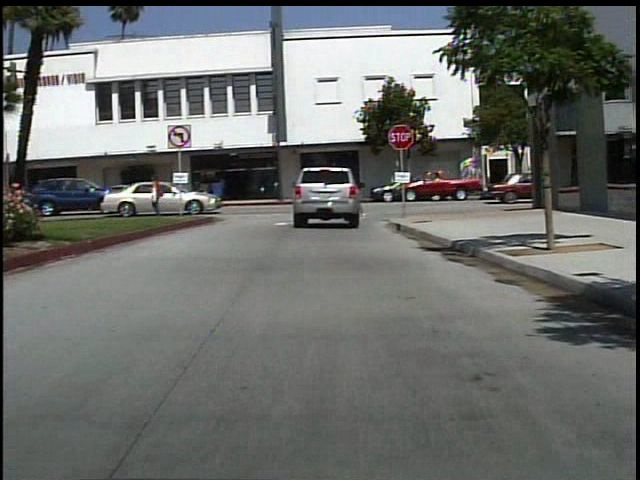person: (338, 169, 364, 226), (147, 173, 170, 217), (214, 174, 231, 203)
